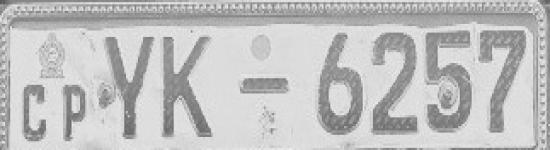-: (234, 70, 293, 102)
2: (367, 30, 420, 140)
5: (423, 27, 473, 138)
6: (308, 27, 366, 139)
7: (480, 26, 525, 135)
C: (15, 79, 54, 144)
K: (161, 30, 221, 144)
P: (60, 80, 90, 141)
Y: (100, 31, 158, 143)
